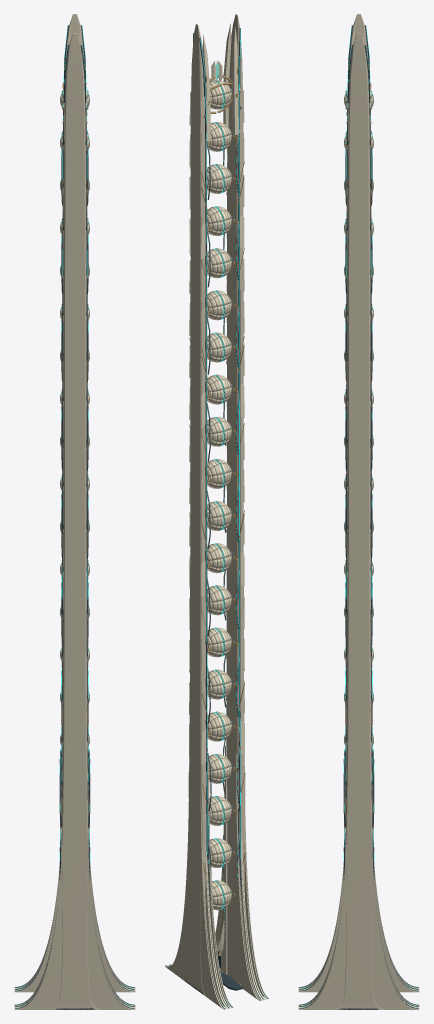
Rendered from Atmosphere_Shield_Projector.glb.
The picture shows the model from 3 angles, left to right: view 1: azimuth 90°, elevation 25°; view 2: azimuth 210°, elevation 25°; view 3: azimuth 270°, elevation 25°; orthographic projection.
Visible parts, largest first — view 1: TowerNegativeX, TowerPositiveX; view 2: TowerPositiveX, TowerNegativeX; view 3: TowerPositiveX, TowerNegativeX.
Part boxes in pixels (x1=…): TowerNegativeX: x1=14, y1=33, x2=135, y2=1009; TowerPositiveX: x1=14, y1=14, x2=135, y2=992; TowerPositiveX: x1=164, y1=23, x2=233, y2=1009; TowerNegativeX: x1=214, y1=14, x2=269, y2=1000; TowerPositiveX: x1=298, y1=33, x2=419, y2=1009; TowerNegativeX: x1=298, y1=14, x2=419, y2=992.
Size of the model in its own units: 80 by 1600 by 180.
